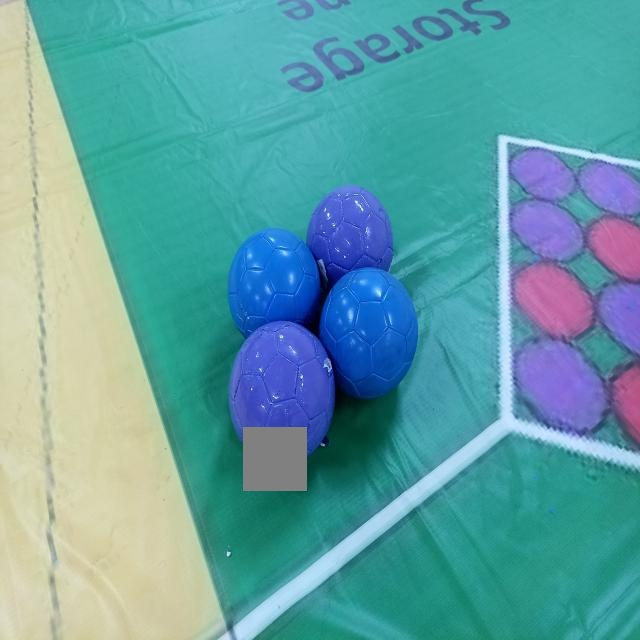blue_ball: (330, 279, 418, 390), (228, 231, 322, 322)
purple_ball: (232, 342, 334, 456), (308, 187, 398, 270)
